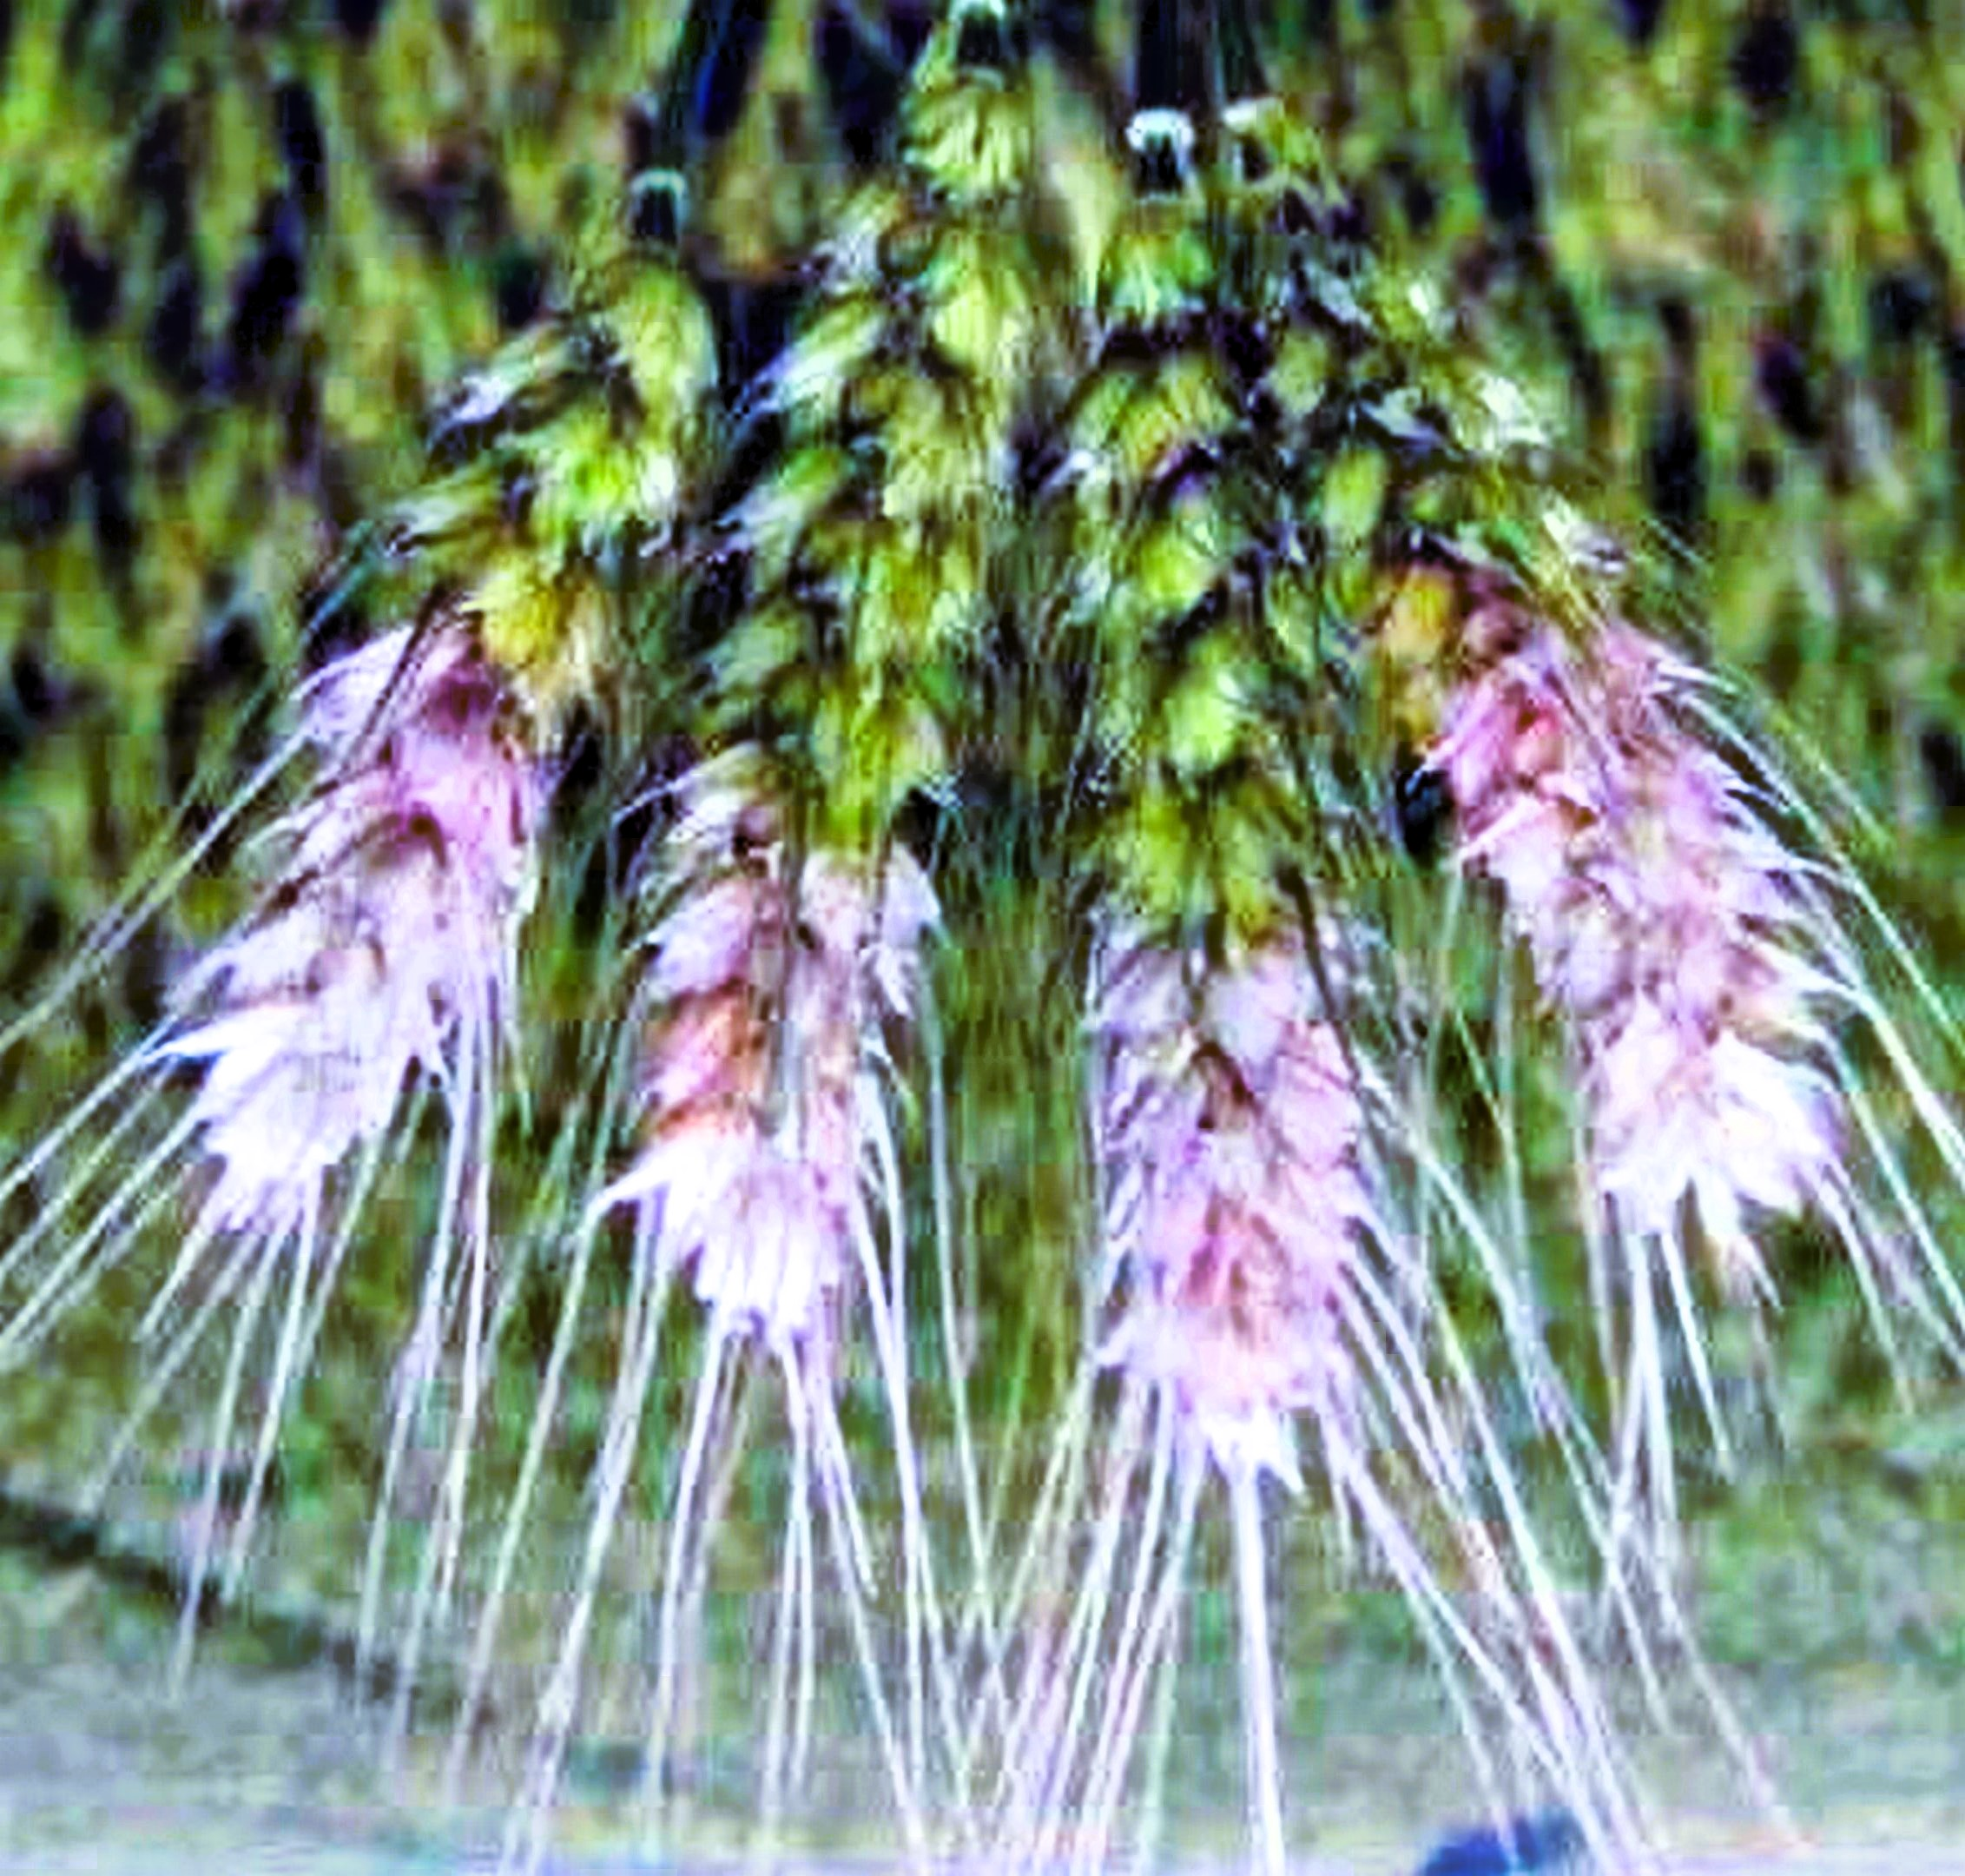Wheat scab: (1023, 319, 1426, 1448)
